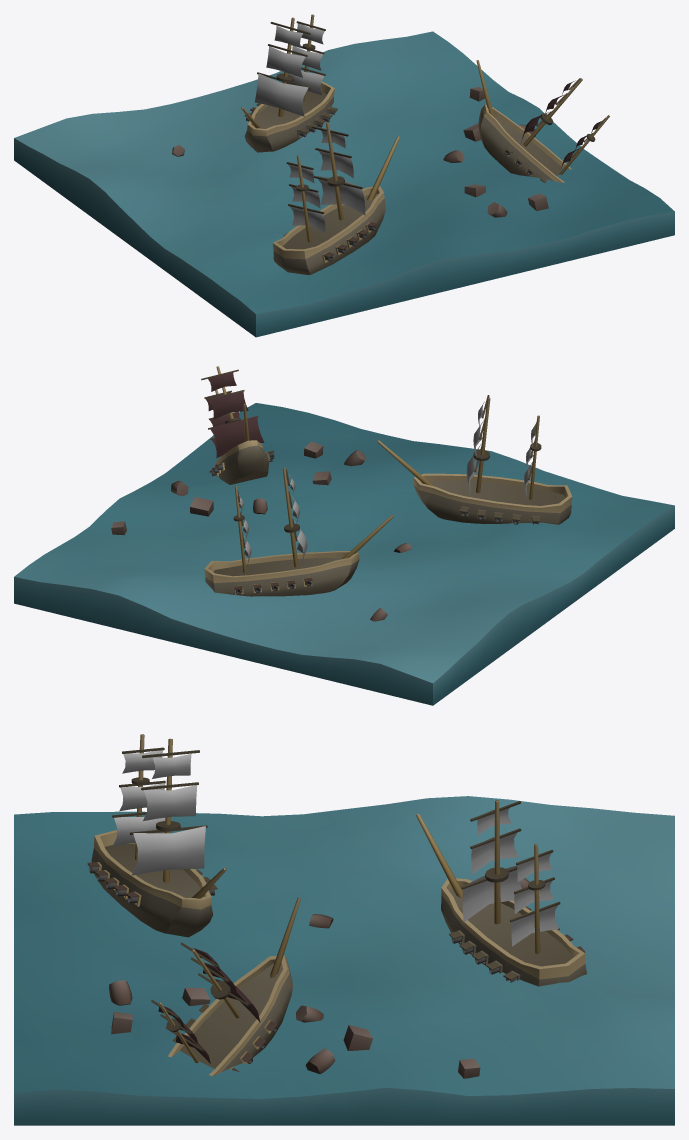
The model's file is OBJ_NavalBattle.fbx.
3 renders of one model, top to bottom at view 1: azimuth 30°, elevation 25°; view 2: azimuth 150°, elevation 25°; view 3: azimuth 270°, elevation 25°, orthographic. The views are drawn at different scales.
Parts seen in each view (by area): view 1: OBJ_NavalBattle; view 2: OBJ_NavalBattle; view 3: OBJ_NavalBattle.
Boxes of the visible parts, x1,y1,x2,y2 form: OBJ_NavalBattle: (14, 14, 674, 337); OBJ_NavalBattle: (14, 366, 674, 705); OBJ_NavalBattle: (14, 734, 674, 1125).
Bounding box in the file's own units: 160 × 54.85 × 160.
